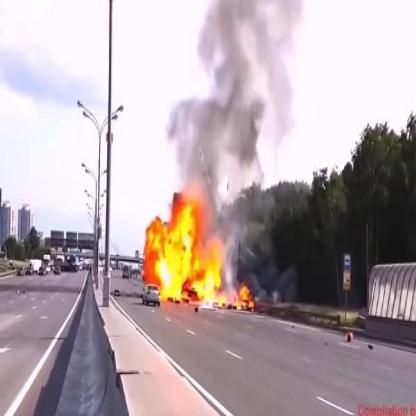fire: (141, 189, 256, 316)
